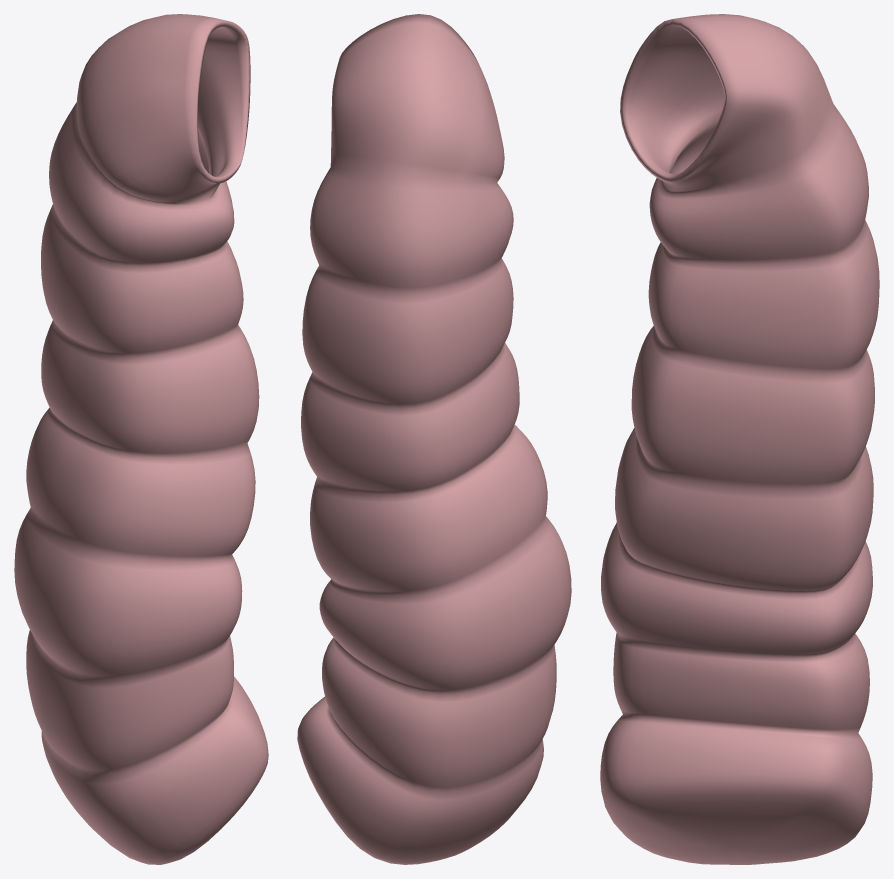
3 renders of one model, left to right at view 1: azimuth 30°, elevation 25°; view 2: azimuth 150°, elevation 25°; view 3: azimuth 270°, elevation 25°, orthographic. The views are drawn at different scales.
Visible parts, largest first — view 1: ZA_d8a2603f0e6f08f1; view 2: ZA_d8a2603f0e6f08f1; view 3: ZA_d8a2603f0e6f08f1.
Part boxes in pixels (box(x1,y1,x2,y2)): ZA_d8a2603f0e6f08f1: box(14, 14, 268, 864); ZA_d8a2603f0e6f08f1: box(297, 14, 571, 864); ZA_d8a2603f0e6f08f1: box(600, 14, 879, 864).
Bounding box in the file's own units: 0.0515 × 0.1924 × 0.0561.
